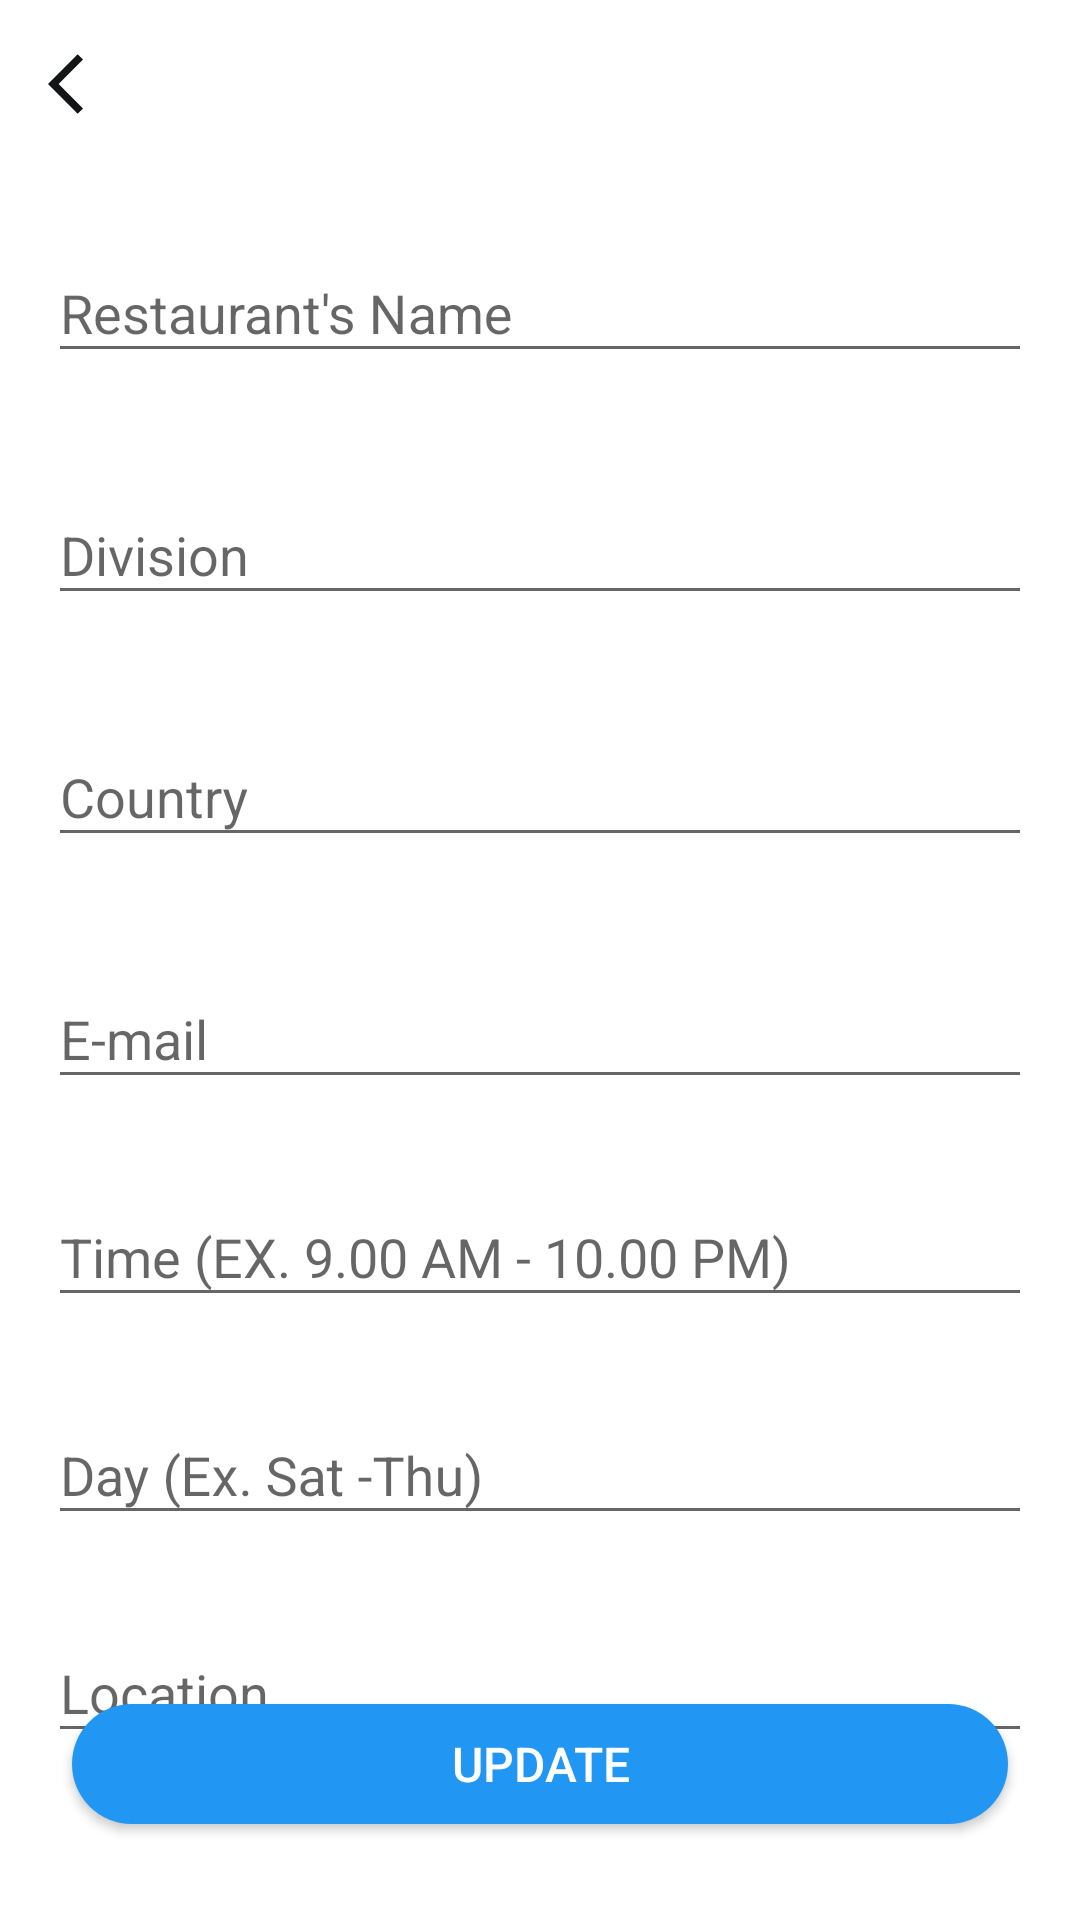

Where to tap for icons on this 1080px x 1920px app screen, as point (x, y):
back: point (65, 84)
